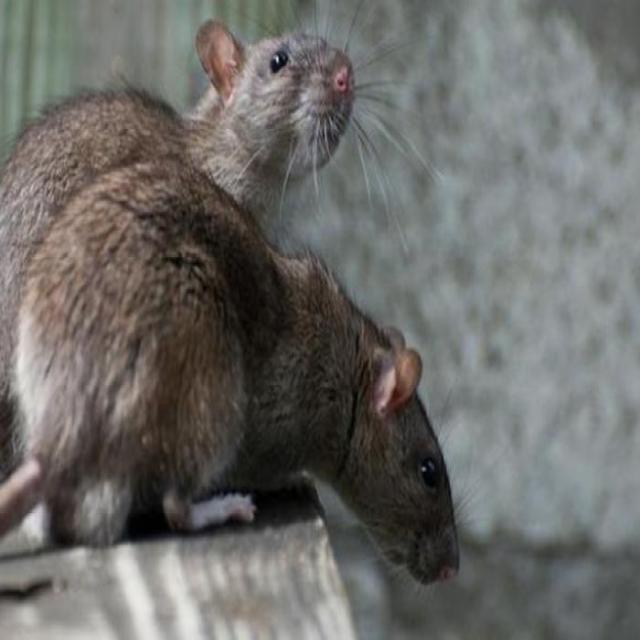rat: (24, 160, 478, 611)
